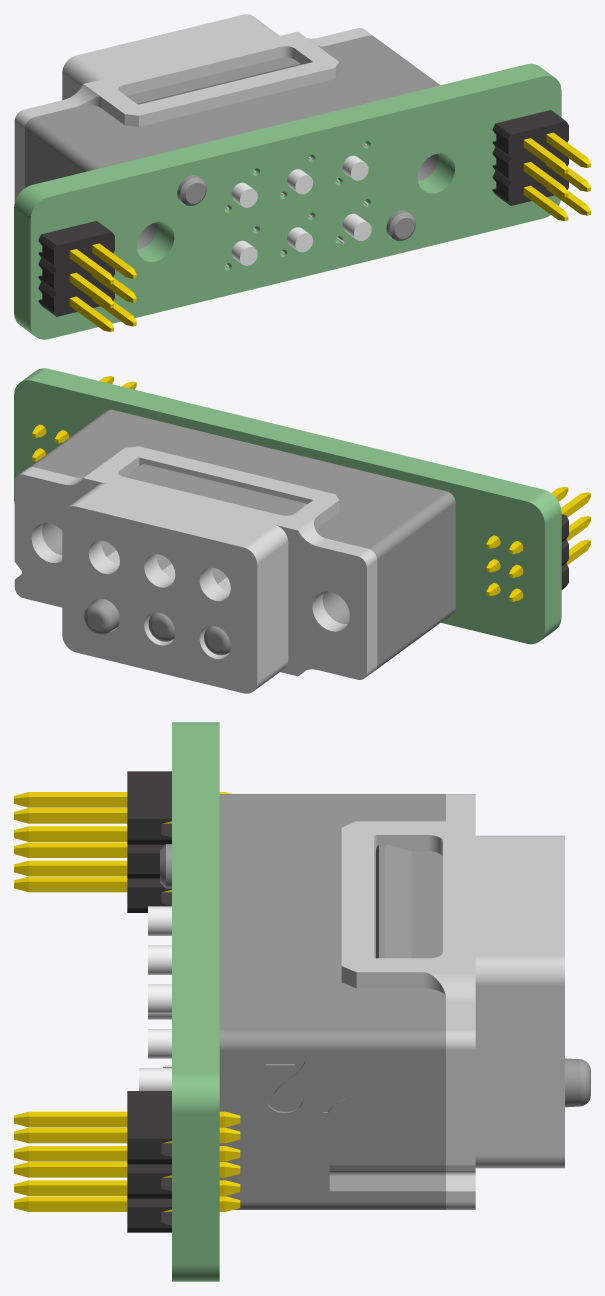
File: Braille V3.glb
3 renders of one model, top to bottom at view 1: azimuth 30°, elevation 25°; view 2: azimuth 150°, elevation 25°; view 3: azimuth 270°, elevation 25°, orthographic. The views are drawn at different scales.
Visible parts, largest first — view 1: Braille V3; view 2: Braille V3; view 3: Braille V3.
Boxes of the visible parts, x1,y1,x2,y2 form: Braille V3: (14,14,590,339); Braille V3: (14,368,590,693); Braille V3: (14,722,590,1281).
Size of the model in its own units: 2.97 by 0.78 by 1.94.
